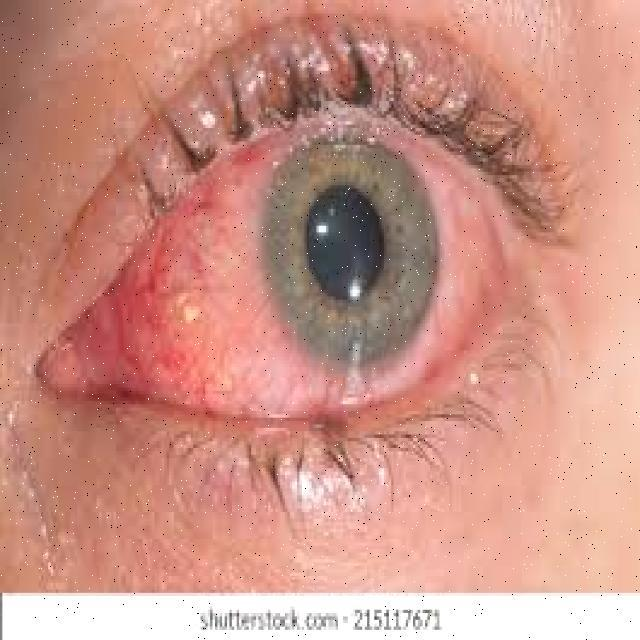Conjunctivitis: (36, 142, 532, 422)
